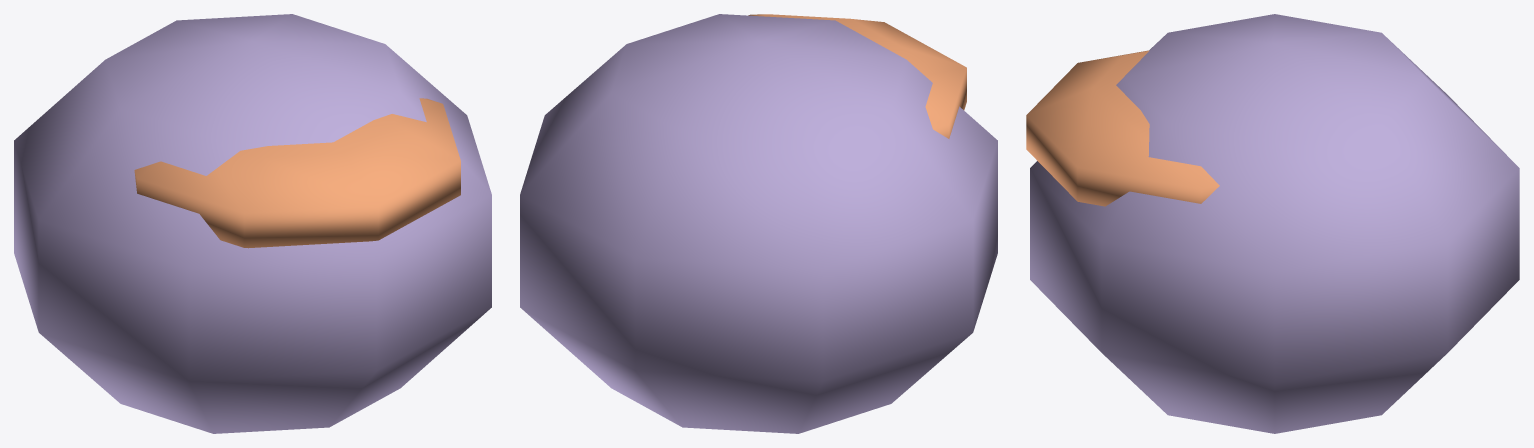
The model's file is bean-bag.glb.
3 renders of one model, left to right at view 1: azimuth 30°, elevation 25°; view 2: azimuth 150°, elevation 25°; view 3: azimuth 270°, elevation 25°, orthographic.
Parts seen in each view (by area): view 1: detail (×2); view 2: detail (×2); view 3: detail (×2).
Boxes of the visible parts, left/top/right/bottom form: detail (×2): left=14, top=14, right=491, bottom=433; detail (×2): left=520, top=14, right=997, bottom=433; detail (×2): left=1026, top=14, right=1519, bottom=433.
Size of the model in its own units: 0.7989 by 0.65 by 0.8048.
1 material, 1 textured.
